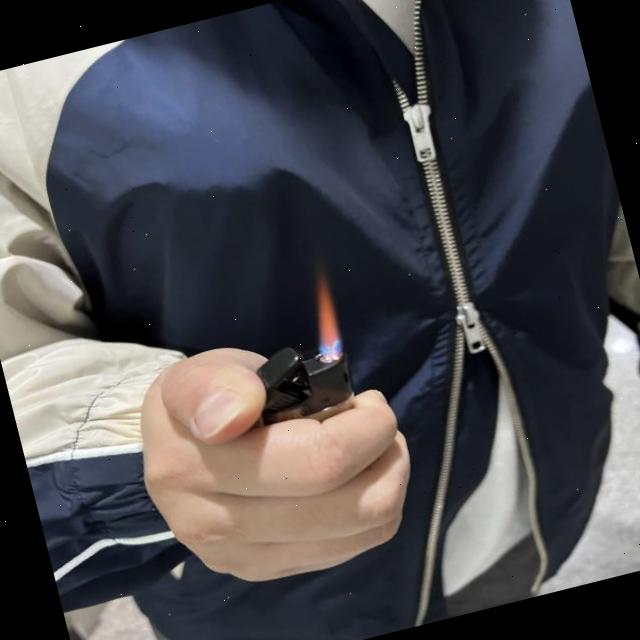fire: (301, 278, 347, 358)
